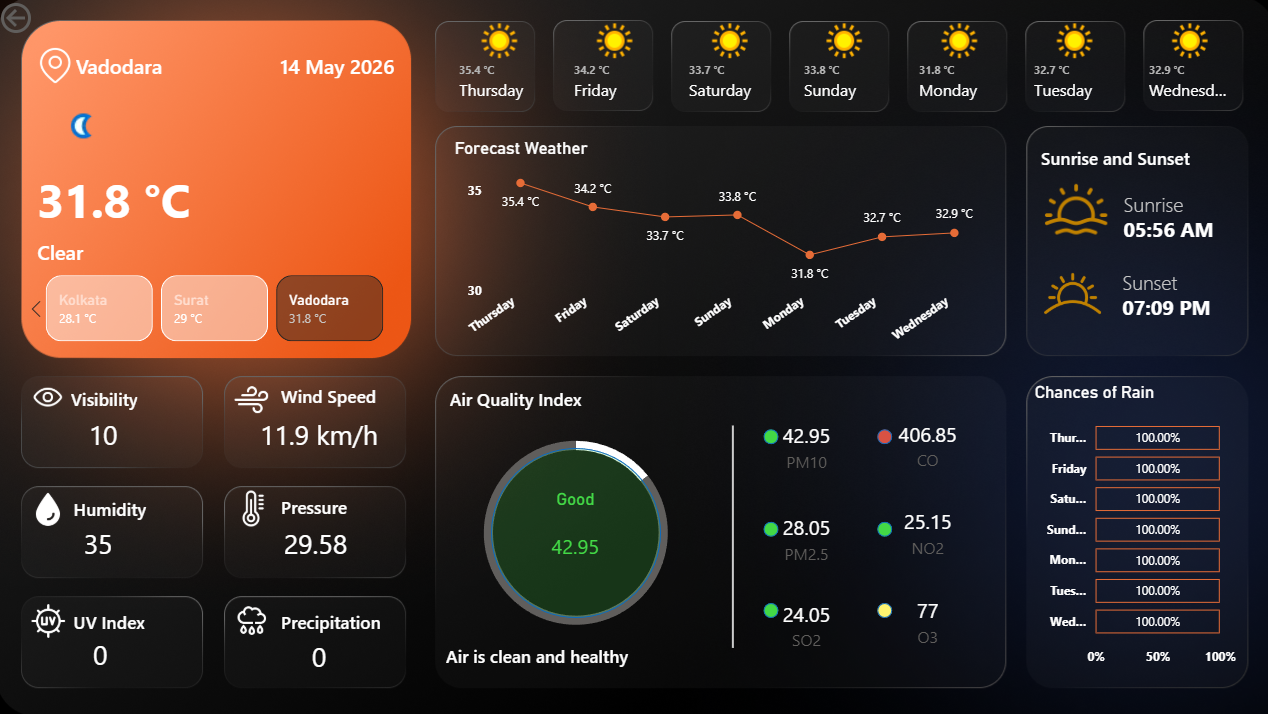

This screenshot's page, from the dashboard's own definition file:
{"tool":"powerbi","page":{"name":"Page 1","canvas":[1280,720],"ordinal":0},"visuals":[{"type":"advancedSlicerVisual","fields":{"Values":["Locations.location.name"]},"box":[24.7,273.1,389.7,76.8],"z":0},{"type":"shape","box":[41.2,168.8,244.3,64.5],"z":1000},{"type":"shape","box":[41.2,233.3,356.8,39.8],"z":2000},{"type":"shape","box":[79.6,48,122.1,39.8],"z":3000},{"type":"shape","box":[275.8,48,122.1,39.8],"z":4000},{"type":"image","box":[41.2,48,35.7,39.8],"z":5000},{"type":"cardVisual","fields":{"Data":["Min(Current.current.condition.icon)"]},"box":[18.6,88.5,117,79.9],"z":6000},{"type":"image","box":[35,377.5,33.8,43.8],"z":7000},{"type":"shape","box":[75,381.2,122.5,40],"z":8000},{"type":"image","box":[28.8,493.8,46.2,35],"z":9000},{"type":"image","box":[28.8,605,47.5,36.2],"z":10000},{"type":"image","box":[235,383.8,41.2,36.2],"z":11000},{"type":"image","box":[228.8,492.5,56.2,36.2],"z":12000},{"type":"image","box":[235,605,41.2,35],"z":13000},{"type":"shape","box":[285,488.8,122.5,40],"z":14000},{"type":"shape","box":[77.5,491.2,122.5,40],"z":15000},{"type":"shape","box":[285,377.5,122.5,40],"z":16000},{"type":"shape","box":[77.5,603.8,122.5,40],"z":17000},{"type":"shape","box":[285,603.8,122.5,40],"z":18000},{"type":"cardVisual","fields":{"Data":["Sum(Current.current.humidity)"]},"box":[58.8,511.2,91.2,65],"z":19000},{"type":"cardVisual","fields":{"Data":["_Measures.Wind_Speed"]},"box":[235,402.5,188.8,65],"z":20000},{"type":"cardVisual","fields":{"Data":["Sum(Current.current.pressure_in)"]},"box":[258.8,511.2,128.8,65],"z":21000},{"type":"cardVisual","fields":{"Data":["Sum(Current.current.precip_in)"]},"box":[260,623.8,126.2,65],"z":22000},{"type":"cardVisual","fields":{"Data":["Sum(Current.current.uv)"]},"box":[63.8,622.5,81.2,65],"z":23000},{"type":"cardVisual","fields":{"Data":["Sum(Current.current.vis_km)"]},"box":[63.8,402.5,91.2,65],"z":24000},{"type":"advancedSlicerVisual","fields":{"Values":["Forcast_Day.Day_name"]},"box":[445,18.8,813.8,101.2],"z":25000},{"type":"lineChart","title":"Forecast Weather","fields":{"Y":["Sum(Forcast_Day.forecast.forecastday.day.avgtemp_c)"],"Category":["Forcast_Day.Day_name"]},"box":[453.8,140,538.8,220],"z":26000},{"type":"shape","box":[1045,140,200,40],"z":27000},{"type":"shape","box":[1127.5,205,118.8,50],"z":28000},{"type":"shape","box":[1126.2,283.8,118.8,50],"z":29000},{"type":"shape","box":[1126.2,258.8,118.8,50],"z":30000},{"type":"shape","box":[1127.5,180,118.8,50],"z":31000},{"type":"image","box":[1033.8,180,92.5,62.5],"z":32000},{"type":"image","box":[1027.5,257.5,98.8,76.2],"z":33000},{"type":"hundredPercentStackedBarChart","title":"Chances of Rain","fields":{"Y":["Sum(Forcast_Day.forecast.forecastday.day.daily_chance_of_rain)","_Measures.Lefy_value_rain"],"Category":["Forcast_Day.Day_name"]},"box":[1033.8,383.8,211.2,293.8],"z":34000},{"type":"shape","box":[453.8,381.2,200,40],"z":35000},{"type":"actionButton","box":[0,0,100,40],"z":36000},{"type":"cardVisual","fields":{"Data":["Sum(Current.current.air_quality.co)"]},"box":[871.2,401.2,121.2,92.5],"z":37000},{"type":"cardVisual","fields":{"Data":["Sum(Current.current.air_quality.no2)"]},"box":[871.2,488.8,121.2,92.5],"z":38000},{"type":"cardVisual","fields":{"Data":["Sum(Current.current.air_quality.o3)"]},"box":[871.2,577.5,121.2,92.5],"z":39000},{"type":"cardVisual","fields":{"Data":["Sum(Current.current.air_quality.pm10)"]},"box":[750,402.5,121.2,92.5],"z":40000},{"type":"cardVisual","fields":{"Data":["Sum(Current.current.air_quality.pm2_5)"]},"box":[750,495,121.2,92.5],"z":41000},{"type":"cardVisual","fields":{"Data":["Sum(Current.current.air_quality.so2)"]},"box":[750,581.2,121.2,92.5],"z":42000},{"type":"shape","box":[767.5,431.2,15,15],"z":43000},{"type":"shape","box":[767.5,605,15,15],"z":44000},{"type":"shape","box":[767.5,523.8,15,15],"z":45000},{"type":"shape","box":[881.2,431.2,15,15],"z":46000},{"type":"shape","box":[881.2,523.8,15,15],"z":47000},{"type":"shape","box":[881.2,605,15,15],"z":48000},{"type":"shape","box":[723.8,427.5,26.2,222.5],"z":49000},{"type":"donutChart","fields":{"Y":["Sum(Current.current.air_quality.pm10)","_Measures.Left_Value_PM10"]},"box":[450,415,260,240],"z":49500},{"type":"cardVisual","fields":{"Data":["Sum(Current.current.air_quality.pm10)"]},"box":[518.8,491.2,121.2,92.5],"z":50000},{"type":"shape","box":[495,450,170,170],"z":52000},{"type":"shape","box":[450,627.5,260,60],"z":52001}]}

Visuals, with their boxes in screenshot pixels (x1, y1, x2, y2), scaled from the page's 1280x720 canvas onto the 1268x714 screenshot:
advancedSlicerVisual - Locations.location.name: 24 271 411 347
shape: 41 167 283 231
shape: 41 231 394 271
shape: 79 48 200 87
shape: 273 48 394 87
image: 41 48 76 87
cardVisual - Min(Current.current.condition.icon): 18 88 134 167
image: 35 374 68 418
shape: 74 378 196 418
image: 29 490 74 524
image: 29 600 76 636
image: 233 381 274 416
image: 227 488 282 524
image: 233 600 274 635
shape: 282 485 404 524
shape: 77 487 198 527
shape: 282 374 404 414
shape: 77 599 198 638
shape: 282 599 404 638
cardVisual - Sum(Current.current.humidity): 58 507 149 571
cardVisual - _Measures.Wind_Speed: 233 399 420 464
cardVisual - Sum(Current.current.pressure_in): 256 507 384 571
cardVisual - Sum(Current.current.precip_in): 258 619 383 683
cardVisual - Sum(Current.current.uv): 63 617 144 682
cardVisual - Sum(Current.current.vis_km): 63 399 154 464
advancedSlicerVisual - Forcast_Day.Day_name: 441 19 1247 119
"Forecast Weather" lineChart: 450 139 983 357
shape: 1035 139 1233 178
shape: 1117 203 1235 253
shape: 1116 281 1233 331
shape: 1116 257 1233 306
shape: 1117 178 1235 228
image: 1024 178 1116 240
image: 1018 255 1116 331
"Chances of Rain" hundredPercentStackedBarChart: 1024 381 1233 672
shape: 450 378 648 418
actionButton: 0 0 99 40
cardVisual - Sum(Current.current.air_quality.co): 863 398 983 490
cardVisual - Sum(Current.current.air_quality.no2): 863 485 983 576
cardVisual - Sum(Current.current.air_quality.o3): 863 573 983 664
cardVisual - Sum(Current.current.air_quality.pm10): 743 399 863 491
cardVisual - Sum(Current.current.air_quality.pm2_5): 743 491 863 583
cardVisual - Sum(Current.current.air_quality.so2): 743 576 863 668
shape: 760 428 775 442
shape: 760 600 775 615
shape: 760 519 775 534
shape: 873 428 888 442
shape: 873 519 888 534
shape: 873 600 888 615
shape: 717 424 743 645
donutChart - Sum(Current.current.air_quality.pm10) x _Measures.Left_Value_PM10: 446 412 703 650
cardVisual - Sum(Current.current.air_quality.pm10): 514 487 634 579
shape: 490 446 659 615
shape: 446 622 703 682
